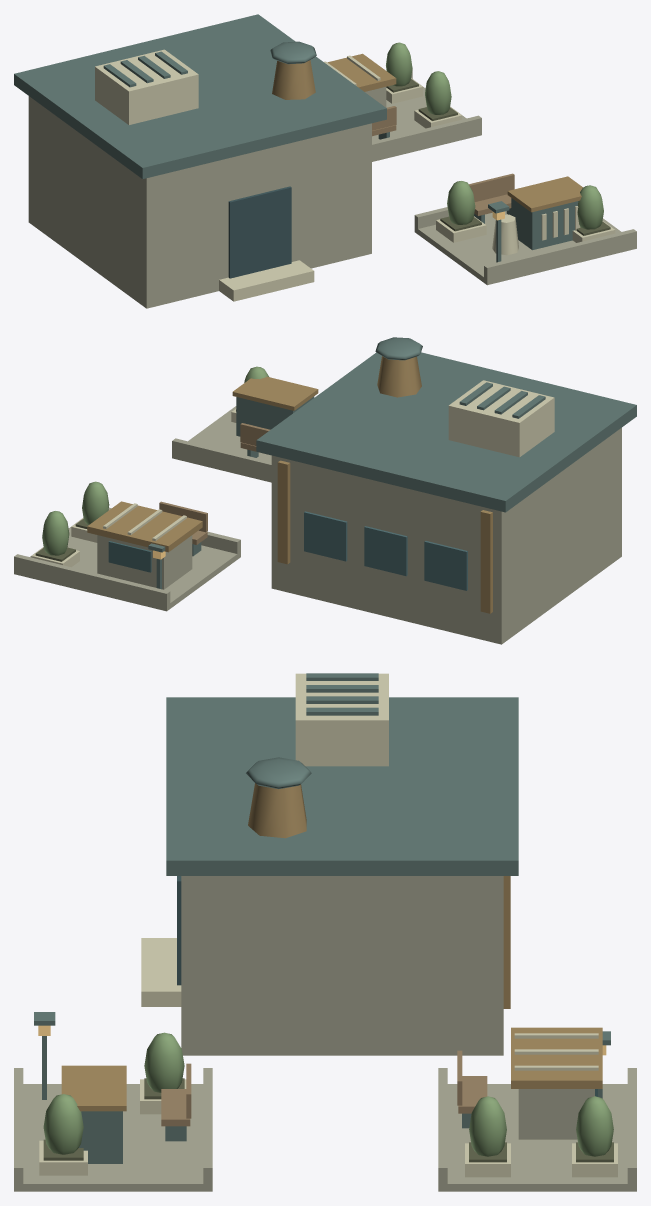
The model's file is cache.glb.
3 renders of one model, top to bottom at view 1: azimuth 30°, elevation 25°; view 2: azimuth 150°, elevation 25°; view 3: azimuth 270°, elevation 25°, orthographic. The views are drawn at different scales.
Parts seen in each view (by area): view 1: ARENA wall, ARENA roof, ARENA metal (×2), ARENA stone (×5), ARENA paving (×2), ARENA window, ARENA leaves (×4), ARENA trunk (×2), ARENA trim, ARENA panel, ARENA canopy, ARENA wood (+1 smaller); view 2: ARENA wall (×2), ARENA roof, ARENA metal (×4), ARENA window (×4), ARENA paving (×2), ARENA stone (×3), ARENA canopy, ARENA leaves (×2), ARENA panel, ARENA trunk, ARENA wood (×2), ARENA sphere; view 3: ARENA wall (×2), ARENA roof, ARENA paving (×2), ARENA metal (×3), ARENA leaves (×4), ARENA stone (×7), ARENA canopy, ARENA panel, ARENA trunk, ARENA trim, ARENA wood (×2), ARENA sphere.
Part boxes in pixels (x1=…): ARENA wall: x1=28, y1=96, x2=371, y2=308; ARENA roof: x1=14, y1=14, x2=386, y2=178; ARENA metal (×2): x1=95, y1=49, x2=578, y2=250; ARENA stone (×5): x1=372, y1=78, x2=636, y2=281; ARENA paving (×2): x1=372, y1=79, x2=636, y2=285; ARENA window: x1=228, y1=186, x2=291, y2=278; ARENA leaves (×4): x1=386, y1=42, x2=603, y2=229; ARENA trunk (×2): x1=272, y1=60, x2=518, y2=255; ARENA trim: x1=219, y1=260, x2=314, y2=301; ARENA panel: x1=507, y1=176, x2=582, y2=212; ARENA canopy: x1=327, y1=53, x2=396, y2=91; ARENA wood: x1=469, y1=173, x2=514, y2=201; ARENA wall (×2): x1=97, y1=427, x2=621, y2=644; ARENA roof: x1=256, y1=352, x2=636, y2=512; ARENA metal (×4): x1=236, y1=380, x2=554, y2=613; ARENA window (×4): x1=108, y1=511, x2=467, y2=590; ARENA paving (×2): x1=14, y1=406, x2=271, y2=611; ARENA stone (×3): x1=14, y1=438, x2=271, y2=608; ARENA canopy: x1=87, y1=501, x2=202, y2=552; ARENA leaves (×2): x1=42, y1=481, x2=109, y2=555; ARENA panel: x1=232, y1=376, x2=318, y2=410; ARENA trunk: x1=377, y1=356, x2=421, y2=397; ARENA wood (×2): x1=159, y1=423, x2=270, y2=532; ARENA sphere: x1=375, y1=337, x2=422, y2=360; ARENA wall (×2): x1=181, y1=876, x2=594, y2=1139; ARENA roof: x1=166, y1=697, x2=518, y2=875; ARENA paving (×2): x1=14, y1=1084, x2=636, y2=1191; ARENA metal (×3): x1=79, y1=673, x2=510, y2=1163; ARENA leaves (×4): x1=43, y1=1032, x2=613, y2=1156; ARENA stone (×7): x1=14, y1=1068, x2=636, y2=1187; ARENA canopy: x1=511, y1=1027, x2=602, y2=1088; ARENA panel: x1=61, y1=1065, x2=126, y2=1111; ARENA trunk: x1=248, y1=783, x2=306, y2=838; ARENA trim: x1=141, y1=938, x2=181, y2=1006; ARENA wood (×2): x1=161, y1=1076, x2=487, y2=1126; ARENA sphere: x1=246, y1=757, x2=311, y2=789.
Bounding box in the file's own units: 8.17 × 3.4 × 7.34.
